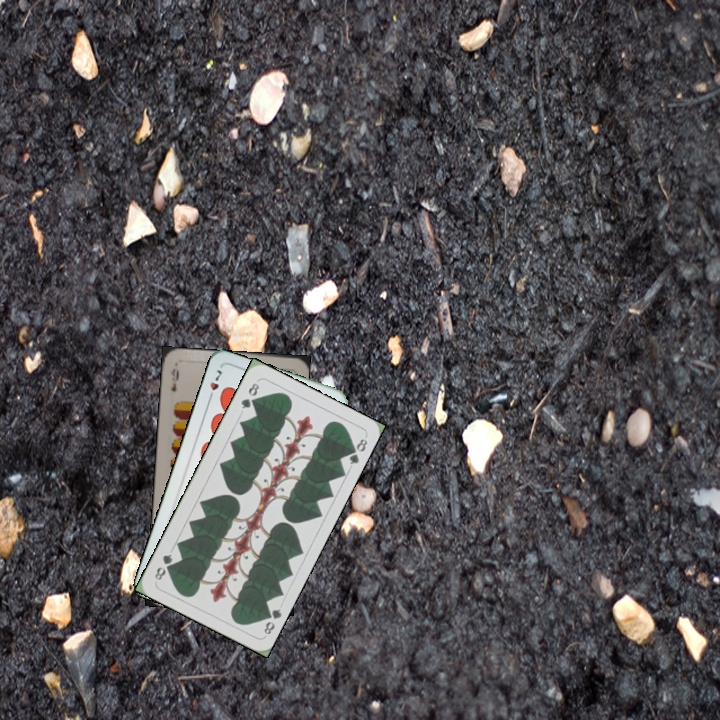E9: (166, 364, 182, 394)
G8: (259, 604, 284, 637), (237, 379, 262, 411)
H7: (204, 365, 224, 404)
